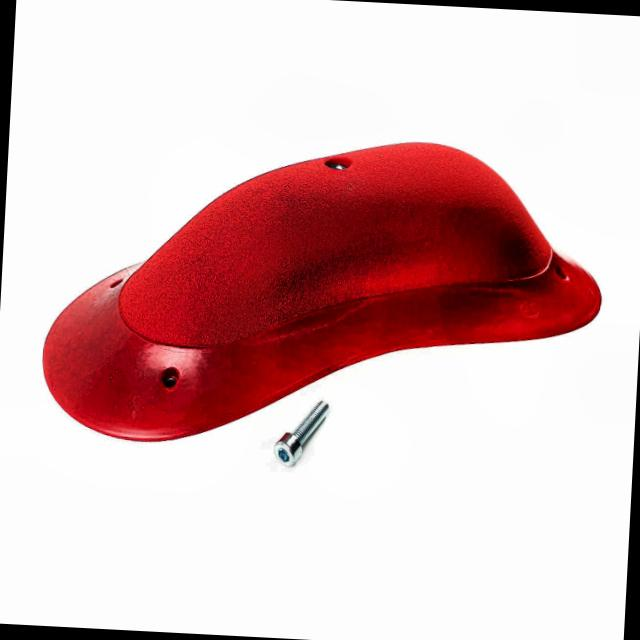Hold: (16, 114, 623, 451)
